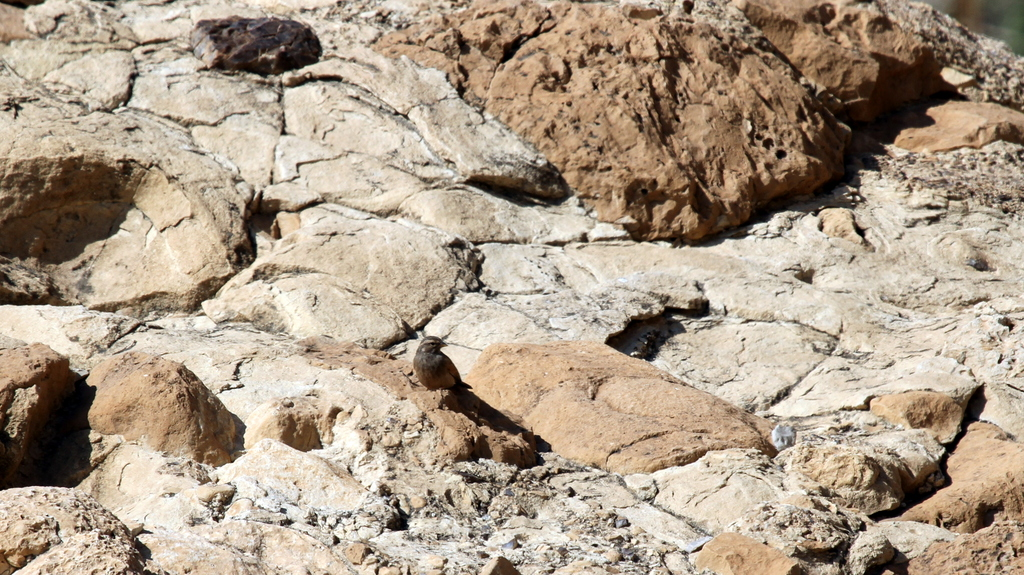Bird: (413, 335, 473, 391)
